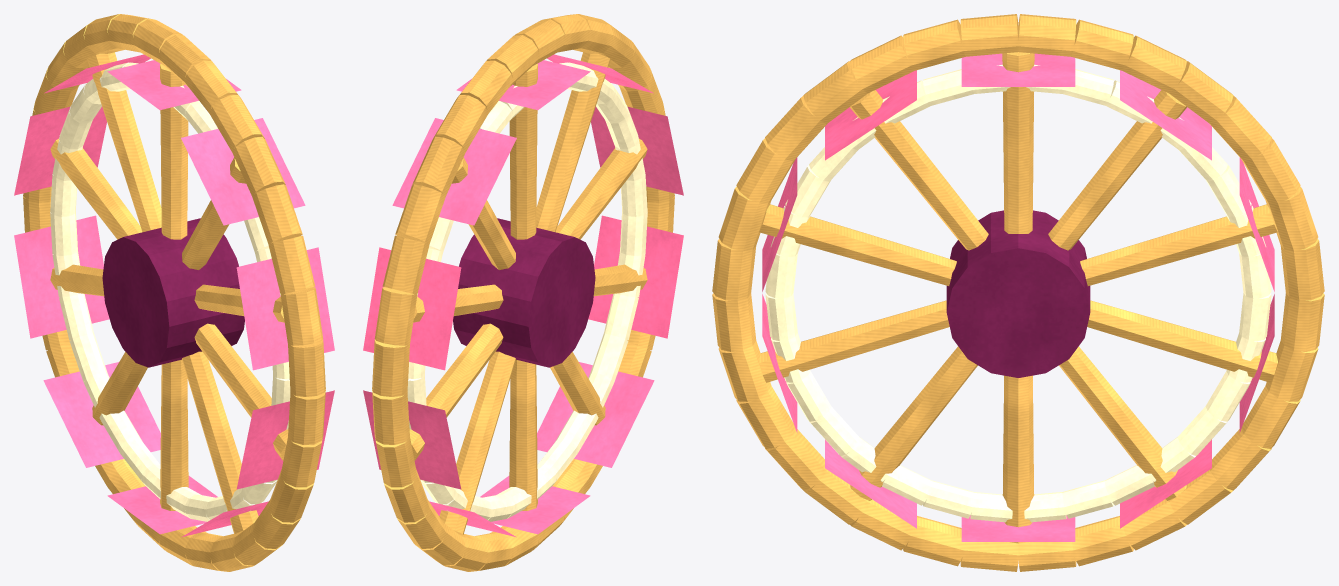
File: Sugar-Swirl-Paddle.glb
The picture shows the model from 3 angles, left to right: view 1: azimuth 30°, elevation 25°; view 2: azimuth 150°, elevation 25°; view 3: azimuth 270°, elevation 25°; orthographic projection. The views are drawn at different scales.
Bounding box in the file's own units: 0.34 × 2.05 × 2.05.
Materials: 13 (13 with a texture image).
